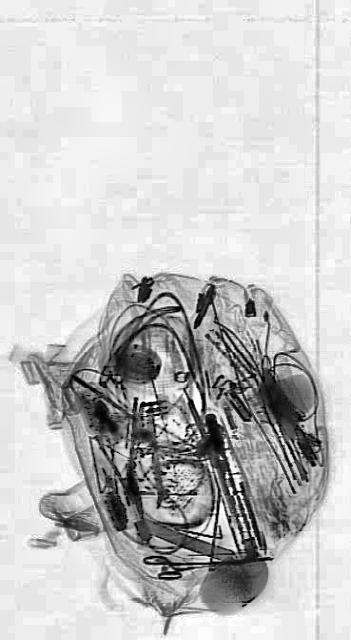Scissors: (140, 542, 271, 582)
